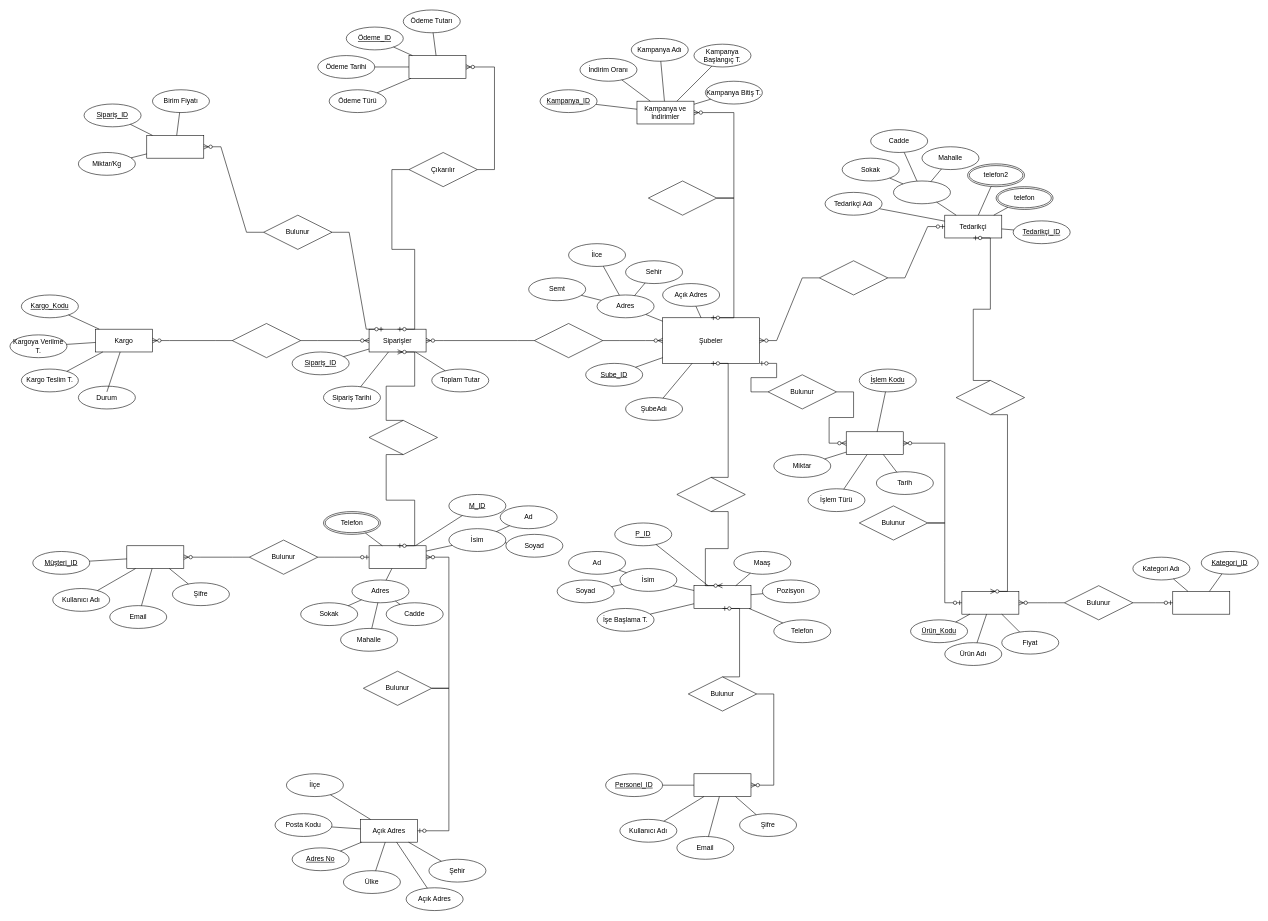
This 1268x921 diagram has some shape labels left out. The box of each missing label's shape, as (x1, y1, x2, y2) in pixels:
Alınır: (534, 323, 603, 358)
Başlar: (648, 180, 717, 215)
Kategoriler: (1172, 591, 1230, 614)
Müşteri Bilgileri: (126, 545, 184, 569)
Müşteriler: (369, 545, 426, 569)
Personel Bilgileri: (693, 773, 751, 797)
Personeller: (693, 585, 751, 608)
Sağlanır: (956, 380, 1025, 415)
Sağlar: (819, 260, 888, 295)
Sipariş Detayları: (146, 135, 204, 158)
Stoklar: (846, 431, 903, 455)
Tedarikçi Adres: (893, 180, 950, 204)
Verilir: (232, 323, 301, 358)
verir: (369, 420, 437, 455)
Çalışır: (676, 477, 745, 512)
Ödemeler: (408, 55, 466, 78)
Ürünler: (961, 591, 1019, 614)
